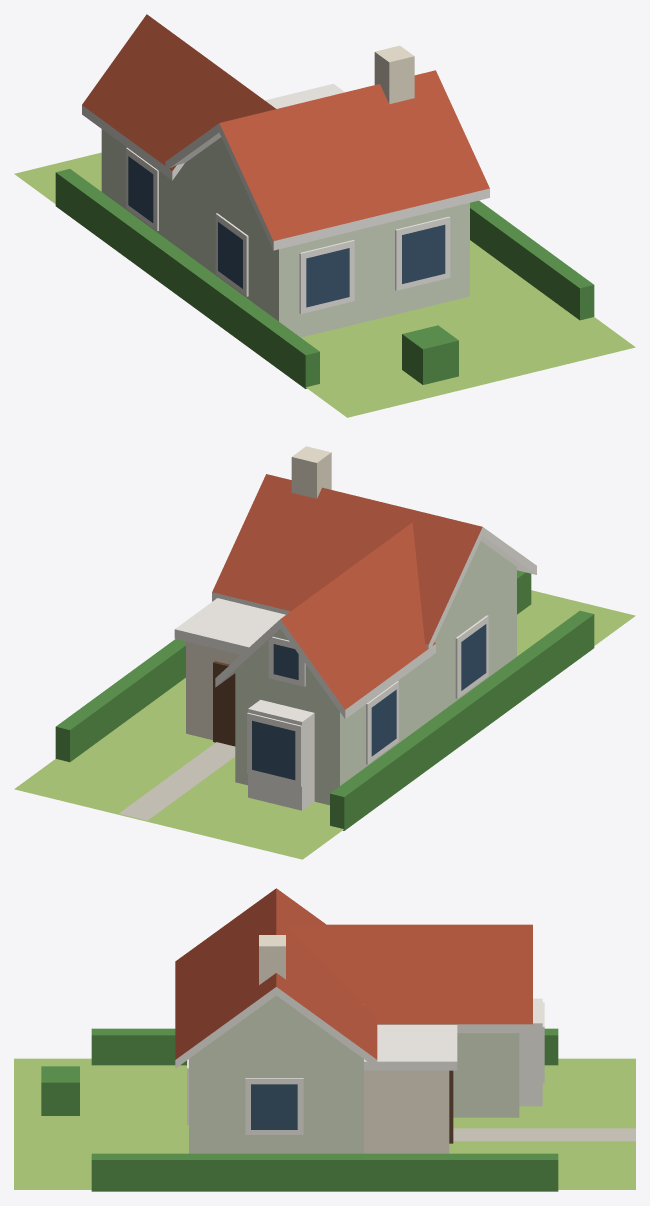
3 renders of one model, top to bottom at view 1: azimuth 30°, elevation 25°; view 2: azimuth 150°, elevation 25°; view 3: azimuth 270°, elevation 25°, orthographic. The views are drawn at different scales.
Visible parts, largest first — view 1: roof (×3), lawn, hedge (×2), house, window_glass (×4), window_frame (×4), roof_edge (×2), wing, tree_spot, chimney, gable, porch_roof; view 2: roof (×3), lawn, hedge (×2), wing, house, window_glass (×4), roof_edge (×2), window_frame (×4), porch_roof, bay, gable (×2), porch (+3 smaller); view 3: roof (×3), lawn, hedge (×2), house, porch, wing, gable, porch_roof, roof_edge (×2), path, window_glass, bay (+3 smaller).
Boxes of the visible parts, box(x1,y1,x2,y2) form: roof (×3): box(82, 14, 489, 241); lawn: box(14, 152, 635, 417); hedge (×2): box(55, 169, 594, 388); house: box(185, 163, 469, 337); window_glass (×4): box(128, 156, 445, 307); window_frame (×4): box(126, 147, 450, 313); roof_edge (×2): box(82, 105, 489, 250); wing: box(101, 129, 184, 252); tree_spot: box(402, 325, 458, 384); chimney: box(374, 45, 414, 104); gable: box(185, 137, 257, 215); porch_roof: box(265, 83, 344, 108); roof (×3): box(212, 474, 482, 709); lawn: box(14, 590, 635, 859); hedge (×2): box(55, 610, 594, 830); wing: box(235, 662, 423, 805); house: box(423, 567, 516, 724); window_glass (×4): box(252, 624, 486, 779); roof_edge (×2): box(212, 527, 536, 719); window_frame (×4): box(247, 615, 488, 786); porch_roof: box(174, 598, 285, 654); bay: box(248, 699, 314, 810); gable (×2): box(235, 541, 516, 692); porch: box(186, 641, 240, 739); roof (×3): box(175, 888, 532, 1059); lawn: box(14, 1058, 635, 1189); hedge (×2): box(91, 1028, 558, 1191); house: box(189, 1053, 363, 1153); porch: box(364, 1070, 449, 1153); wing: box(453, 1033, 519, 1117); gable: box(197, 995, 355, 1053); porch_roof: box(364, 1025, 457, 1070); roof_edge (×2): box(175, 987, 532, 1068); path: box(453, 1128, 635, 1141); window_glass: box(251, 1084, 297, 1129); bay: box(519, 998, 542, 1106).
Bounding box in the file's own units: 8 × 5.8 × 16.
